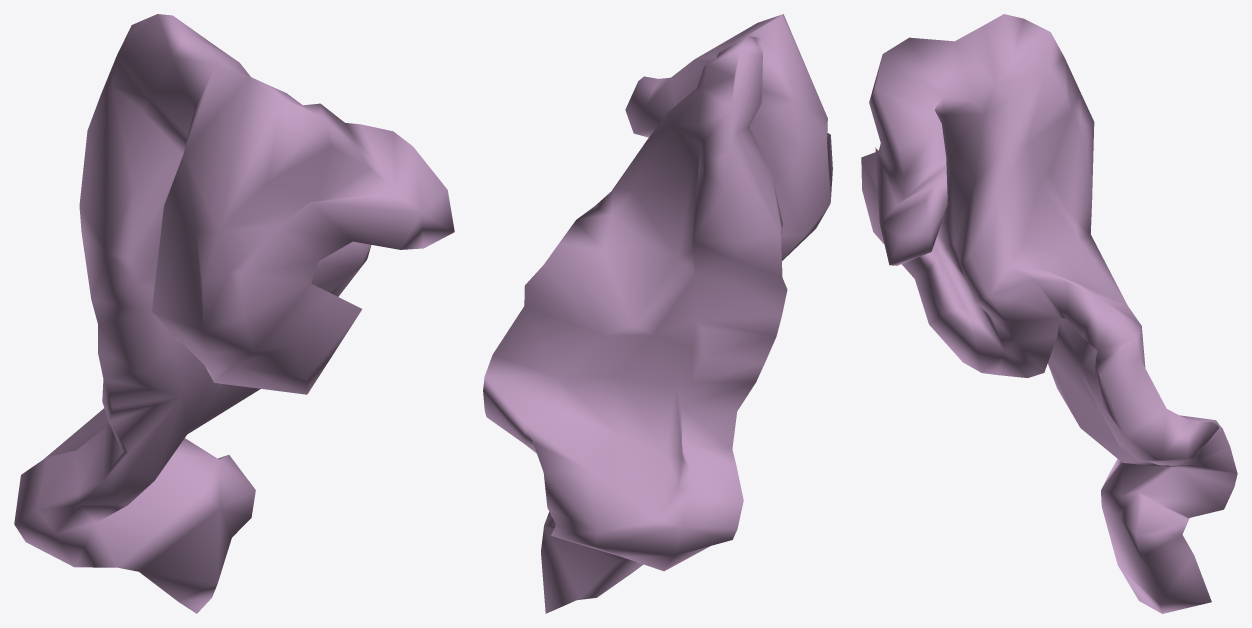
The picture shows the model from 3 angles, left to right: view 1: azimuth 30°, elevation 25°; view 2: azimuth 150°, elevation 25°; view 3: azimuth 270°, elevation 25°; orthographic projection. The views are drawn at different scales.
Parts seen in each view (by area): view 1: 右侧颞平面; view 2: 右侧颞平面; view 3: 右侧颞平面.
Boxes of the visible parts, x1,y1,x2,y2 form: 右侧颞平面: [14, 14, 454, 613]; 右侧颞平面: [483, 14, 832, 613]; 右侧颞平面: [861, 14, 1237, 613].
Bounding box in the file's own units: 0.0303 × 0.0646 × 0.0403.
